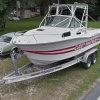Boat: (7, 2, 95, 70)
